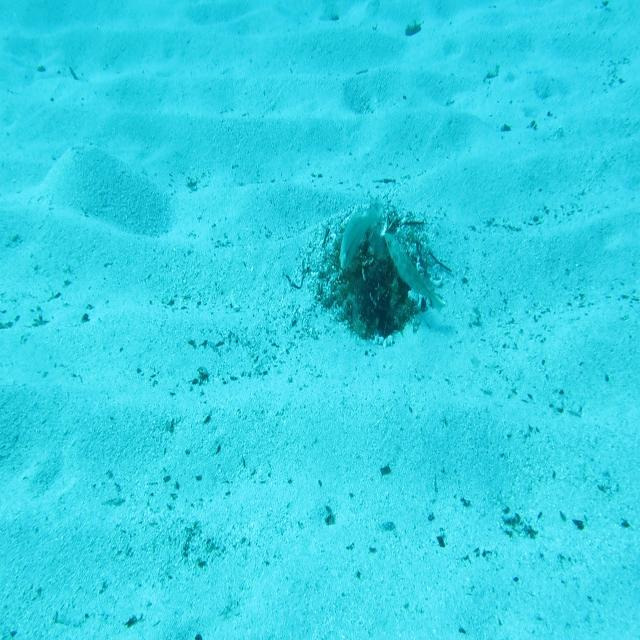GB: (382, 230, 448, 318)
female: (338, 196, 390, 272)
nest: (320, 194, 452, 351)
